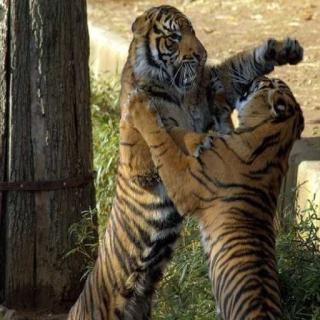Tiger: (70, 3, 239, 320), (142, 73, 316, 320)
